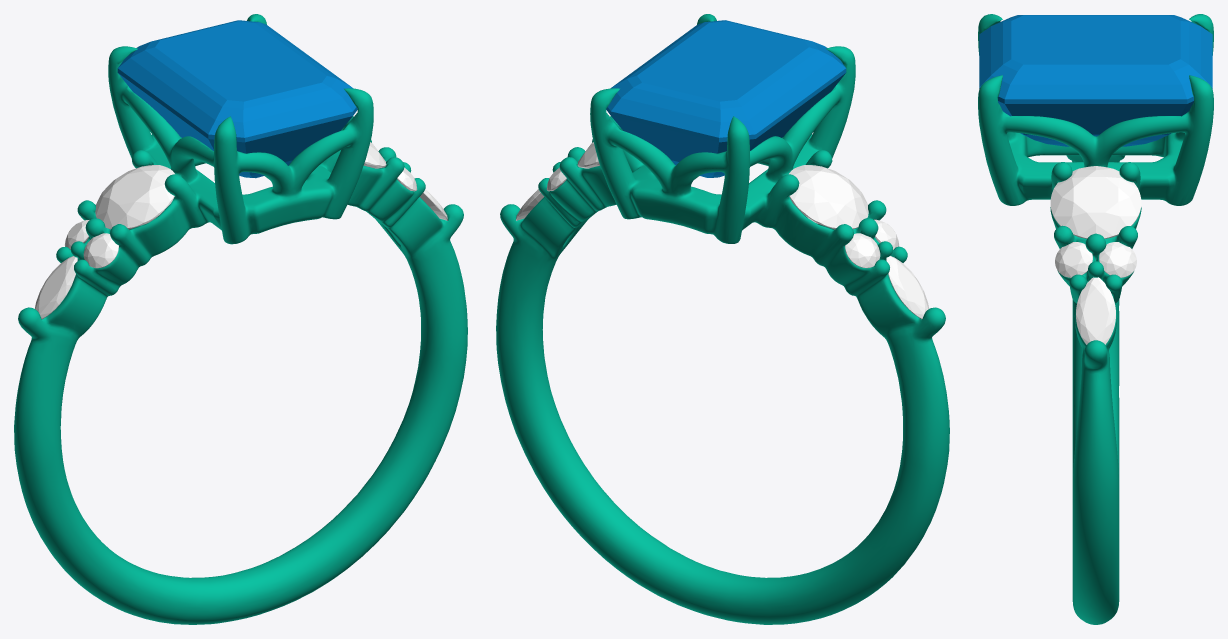
Rendered from BE1D6015_EM_200ct_RENDER.glb.
The picture shows the model from 3 angles, left to right: view 1: azimuth 30°, elevation 25°; view 2: azimuth 150°, elevation 25°; view 3: azimuth 270°, elevation 25°; orthographic projection.
Visible parts, largest first — view 1: Metal 01, CS_Diamond_Emerald, Diamond_Round_Side.007, Diamond_Marquise_Gem_SH.005, Diamond_Round_Side.006; view 2: Metal 01, CS_Diamond_Emerald, Diamond_Round_Side.007, Diamond_Marquise_Gem_SH.005, Diamond_Round_Side.004; view 3: Metal 01, CS_Diamond_Emerald, Diamond_Round_Side, Diamond_Marquise_Gem_SH.002, Diamond_Round_Side.003, Diamond_Round_Side.001.
Part boxes in pixels (x1,y1,x2,y2): Metal 01: (14, 14, 467, 624); CS_Diamond_Emerald: (117, 20, 357, 178); Diamond_Round_Side.007: (95, 165, 174, 229); Diamond_Marquise_Gem_SH.005: (35, 256, 77, 319); Diamond_Round_Side.006: (83, 233, 118, 268); Metal 01: (496, 14, 949, 624); CS_Diamond_Emerald: (606, 20, 846, 177); Diamond_Round_Side.007: (789, 165, 868, 229); Diamond_Marquise_Gem_SH.005: (886, 256, 928, 319); Diamond_Round_Side.004: (845, 233, 880, 268); Metal 01: (978, 14, 1213, 624); CS_Diamond_Emerald: (979, 15, 1212, 146); Diamond_Round_Side: (1050, 166, 1141, 238); Diamond_Marquise_Gem_SH.002: (1076, 277, 1115, 344); Diamond_Round_Side.003: (1099, 242, 1136, 277); Diamond_Round_Side.001: (1055, 242, 1092, 277).
Size of the model in its own units: 20.12 by 23.81 by 9.09.
